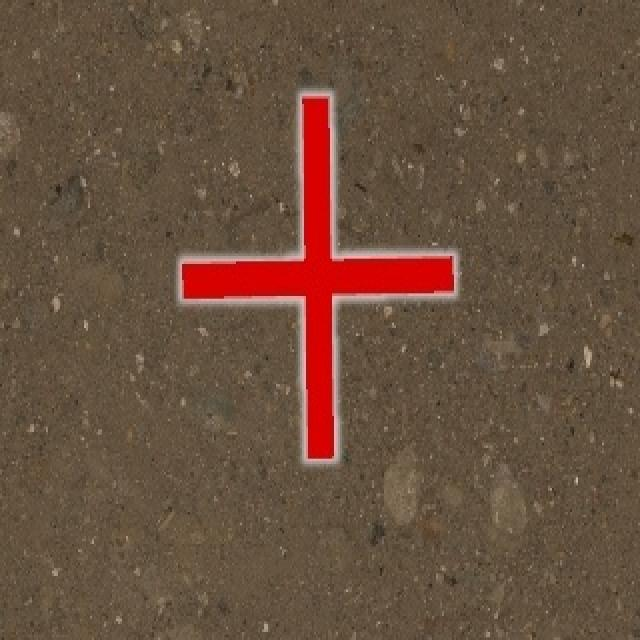x_marker: (181, 95, 453, 457)
